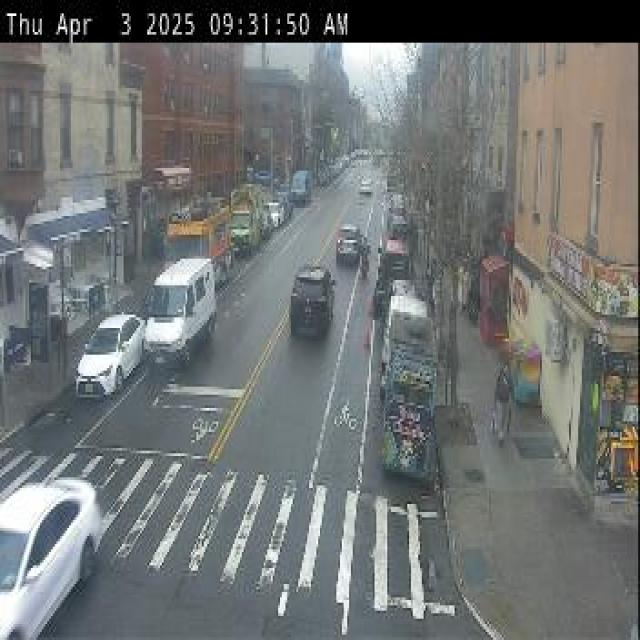parkedCars: (369, 172, 437, 472)
